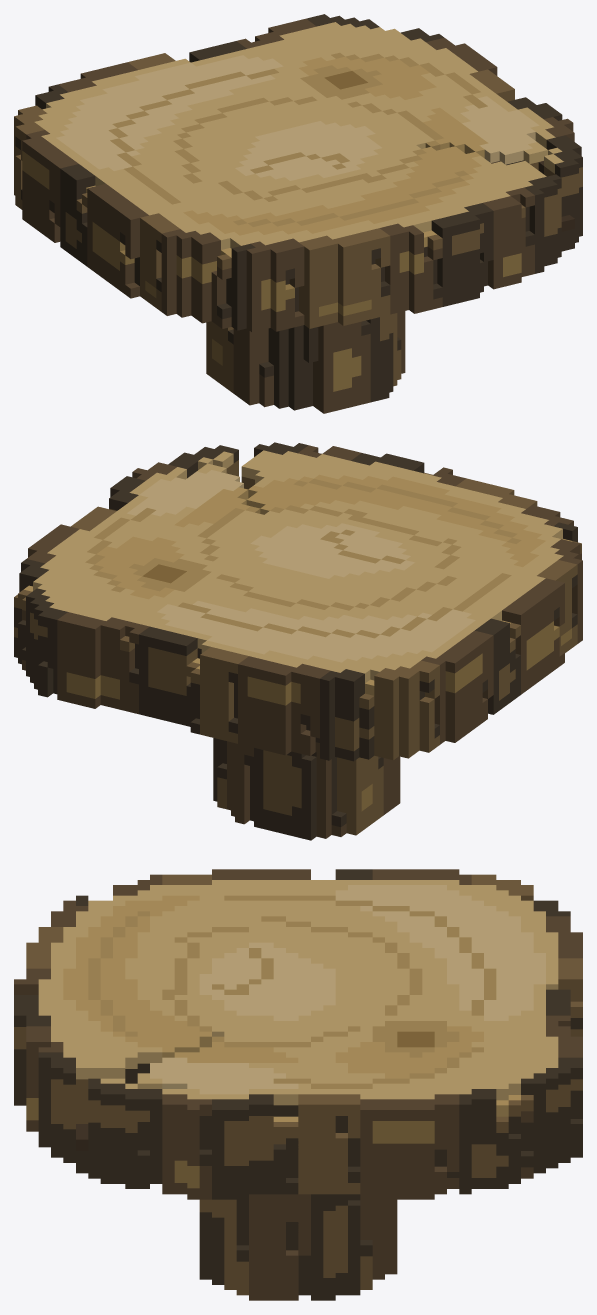
File: dining_table_pine.glb
3 views of the same model, one above another, from view 1: azimuth 30°, elevation 25°; view 2: azimuth 150°, elevation 25°; view 3: azimuth 270°, elevation 25° (orthographic). The views are drawn at different scales.
Parts seen in each view (by area): view 1: VoxelVisual; view 2: VoxelVisual; view 3: VoxelVisual.
Boxes of the visible parts, bbox=[...] form: VoxelVisual: bbox=[14, 14, 582, 413]; VoxelVisual: bbox=[14, 442, 582, 840]; VoxelVisual: bbox=[14, 869, 582, 1300].
Size of what is drawn, in the model's own units: 2.88 by 1.5 by 2.88.
